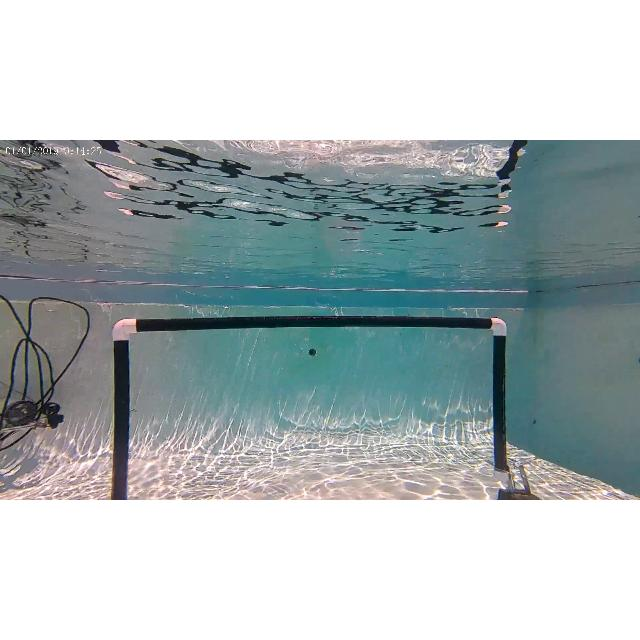prequal gate: (110, 314, 508, 498)
prequal gate leg l: (106, 314, 140, 500)
prequal gate leg r: (480, 310, 520, 496)
